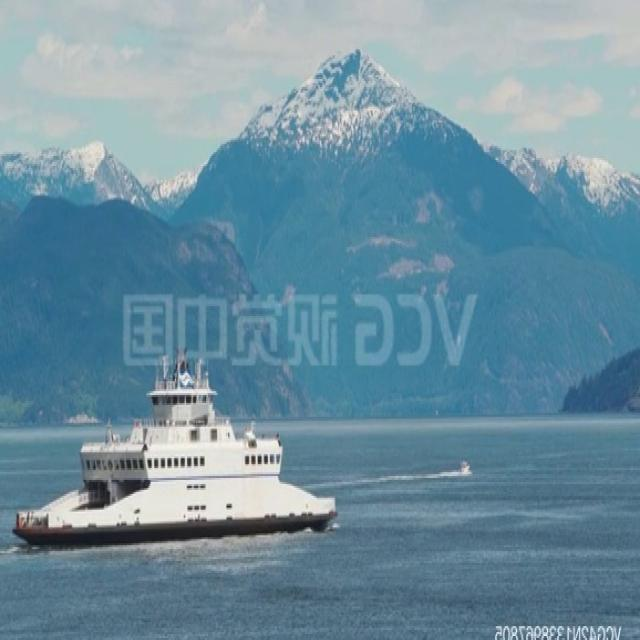passenger ship: (21, 348, 336, 542)
